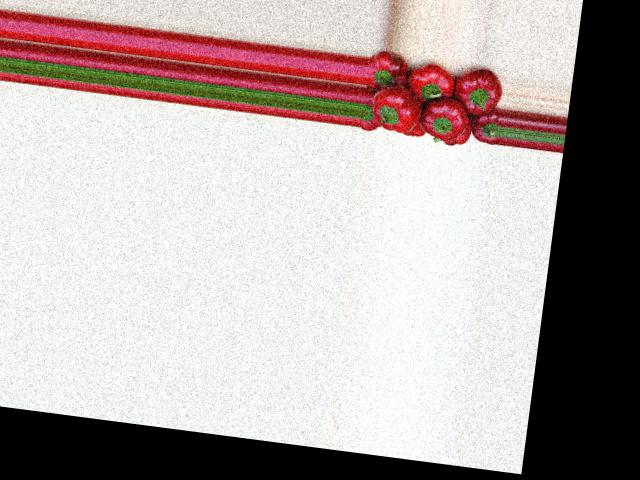bell_pepper: (405, 118, 427, 140)
